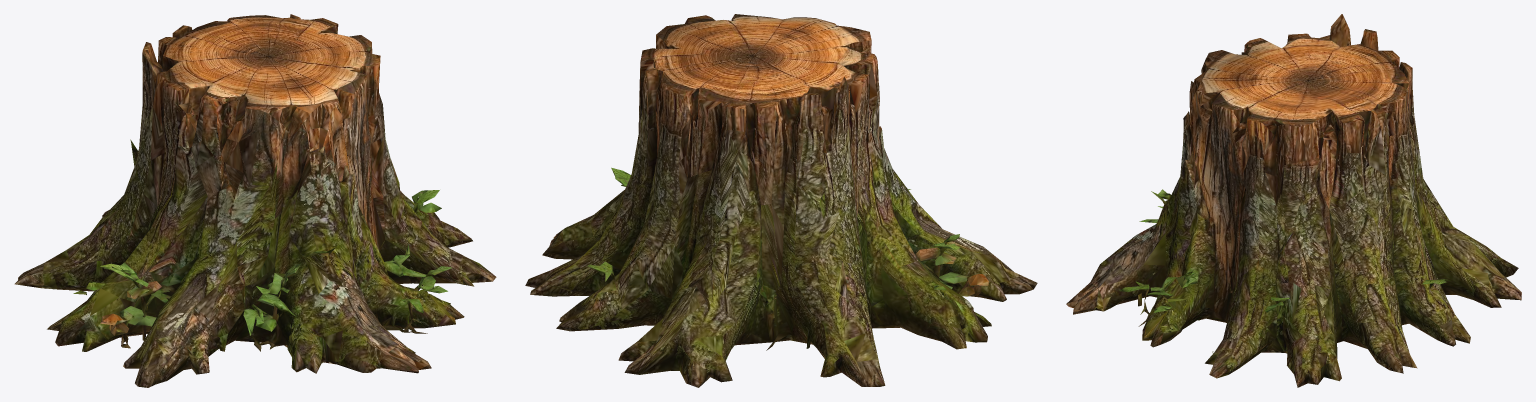
File: toco.glb
3 views of the same model, side by side, from view 1: azimuth 30°, elevation 25°; view 2: azimuth 150°, elevation 25°; view 3: azimuth 270°, elevation 25° (orthographic). The views are drawn at different scales.
Visible parts, largest first — view 1: toco; view 2: toco; view 3: toco.
Part boxes in pixels (x1,y1,x2,y2): toco: [14, 14, 496, 387]; toco: [525, 14, 1037, 387]; toco: [1066, 14, 1521, 387].
Size of the model in its own units: 1.23 by 0.7 by 1.23.
1 material, 1 textured.
